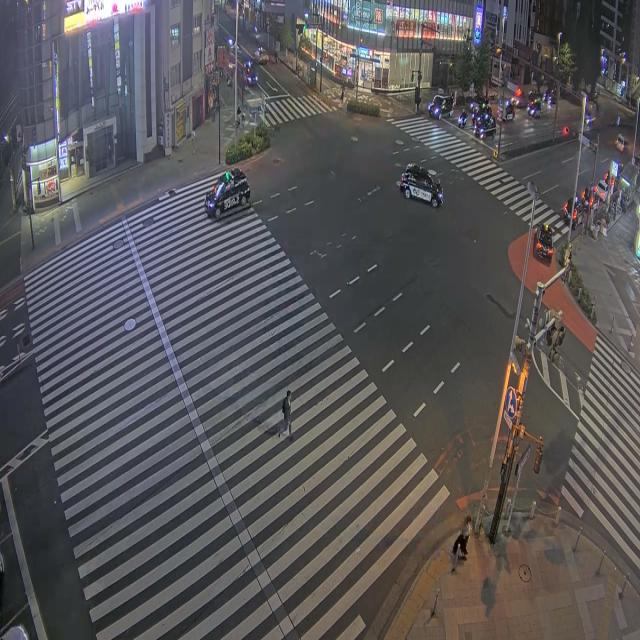car: (204, 168, 249, 219), (399, 164, 442, 207), (562, 192, 584, 228), (534, 224, 553, 262), (427, 96, 453, 119), (473, 117, 496, 139), (471, 103, 492, 125), (571, 202, 586, 228), (1, 625, 28, 639), (244, 60, 258, 86), (526, 98, 544, 118), (510, 88, 528, 108), (594, 181, 607, 201), (542, 88, 556, 105), (254, 48, 268, 64), (502, 103, 514, 121), (615, 134, 627, 151), (527, 90, 541, 103), (584, 113, 594, 128)
motorcycle: (457, 113, 466, 128)
van: (615, 135, 627, 151)
